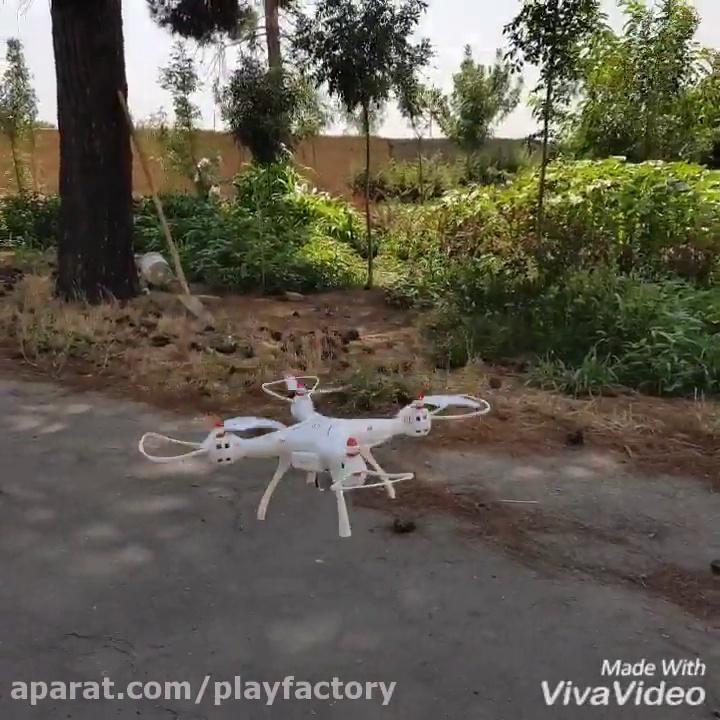drone: (138, 368, 491, 537)
